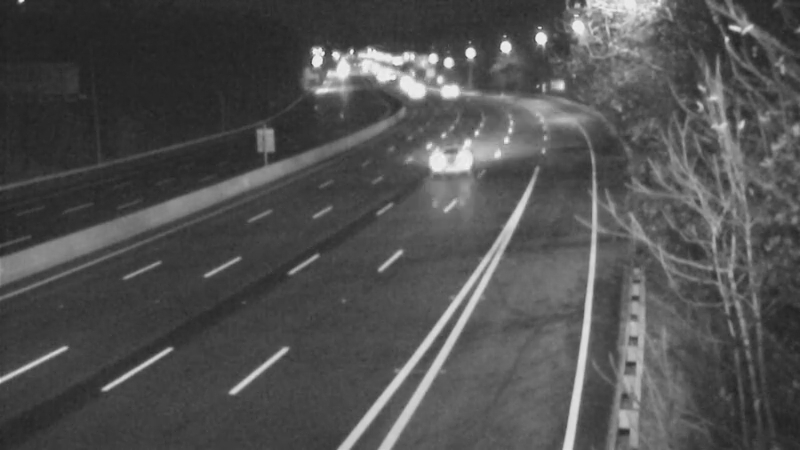vehicle: (414, 118, 494, 198), (388, 66, 438, 116), (421, 64, 471, 114)
